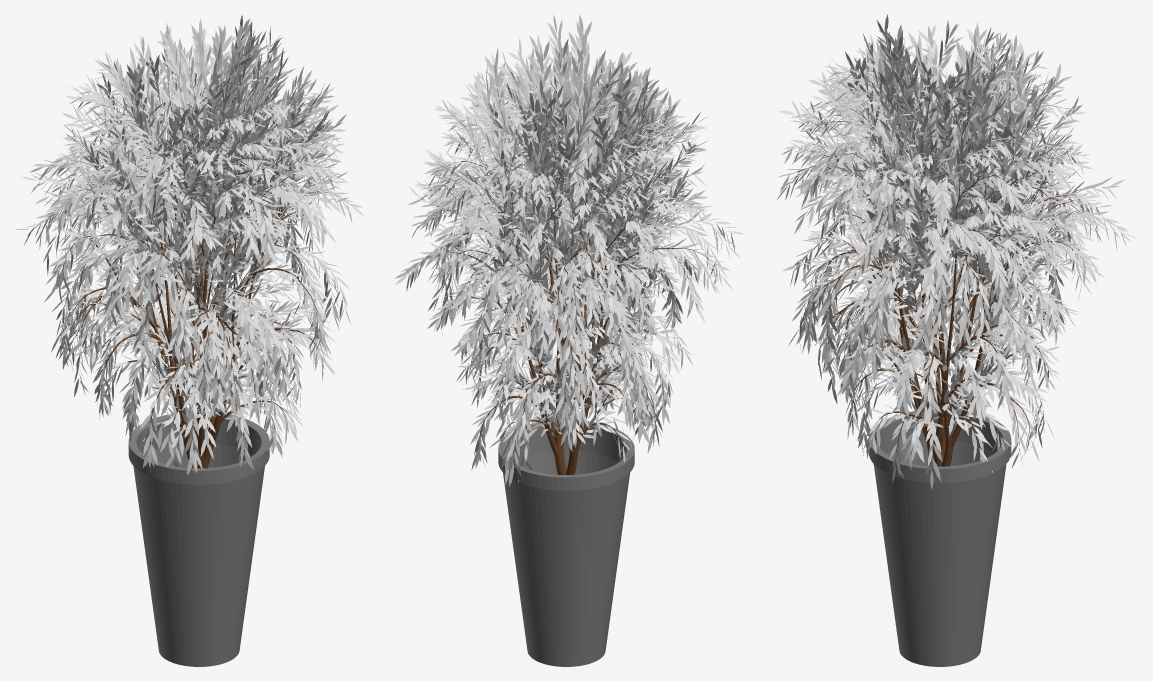
The model's file is planta.fbx.
3 views of the same model, side by side, from view 1: azimuth 30°, elevation 25°; view 2: azimuth 150°, elevation 25°; view 3: azimuth 270°, elevation 25° (orthographic). The views are drawn at different scales.
Visible parts, largest first — view 1: leaves.003, leaves, tree; view 2: leaves.003, leaves, tree; view 3: leaves.003, leaves, tree.
Part boxes in pixels (x1,y1,x2,y2): leaves.003: (15, 15, 364, 477); leaves: (128, 411, 269, 666); tree: (48, 46, 336, 468); leaves.003: (394, 14, 744, 486); leaves: (498, 421, 634, 666); tree: (408, 35, 716, 474); leaves.003: (777, 14, 1135, 489); leaves: (869, 410, 1011, 666); tree: (789, 44, 1104, 466).
Size of the model in its own units: 582 by 1162 by 599.
